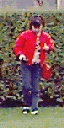person: (12, 12, 52, 114)
